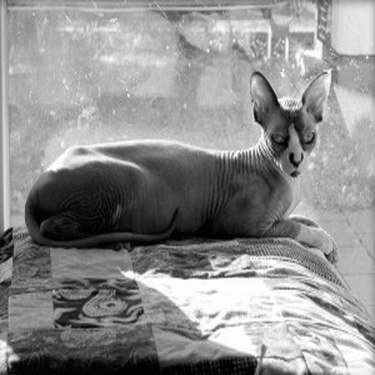cat: (20, 70, 341, 271)
